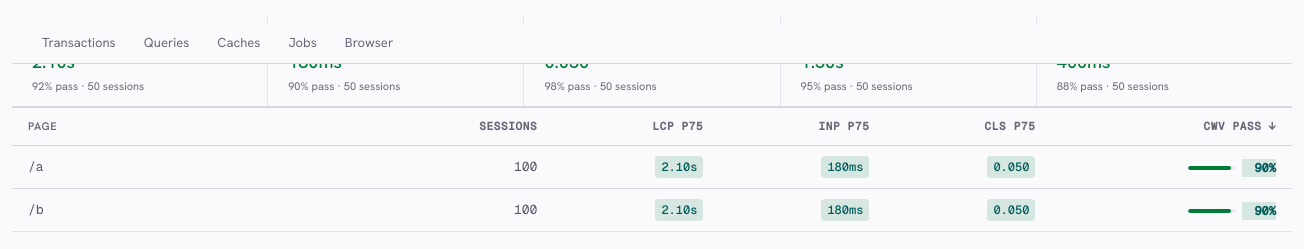
Scenario: BrowserView › sorting › sorts by INP p75 column when clicked: shows sort icon
What coordinates should you click on to do the following:
click the button with class "col-sort" showing "INP p75"
I would click on:
 (802, 126)
Its box is left=719, top=108, right=885, bottom=144.
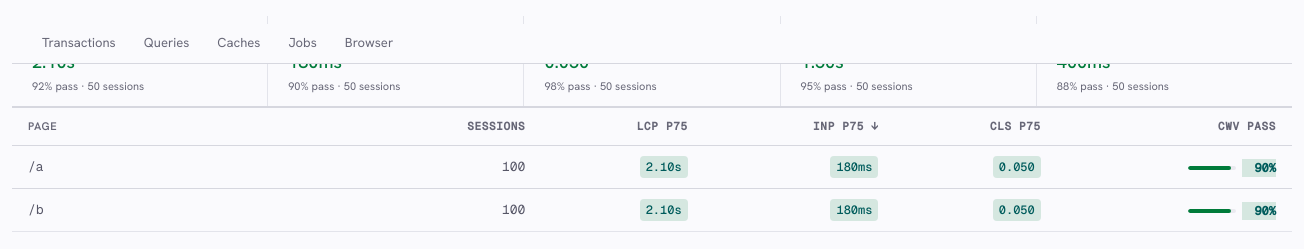
Expected: the button with class "col-sort" reads "INP p75 ↓", left=704, top=108, right=894, bottom=144
